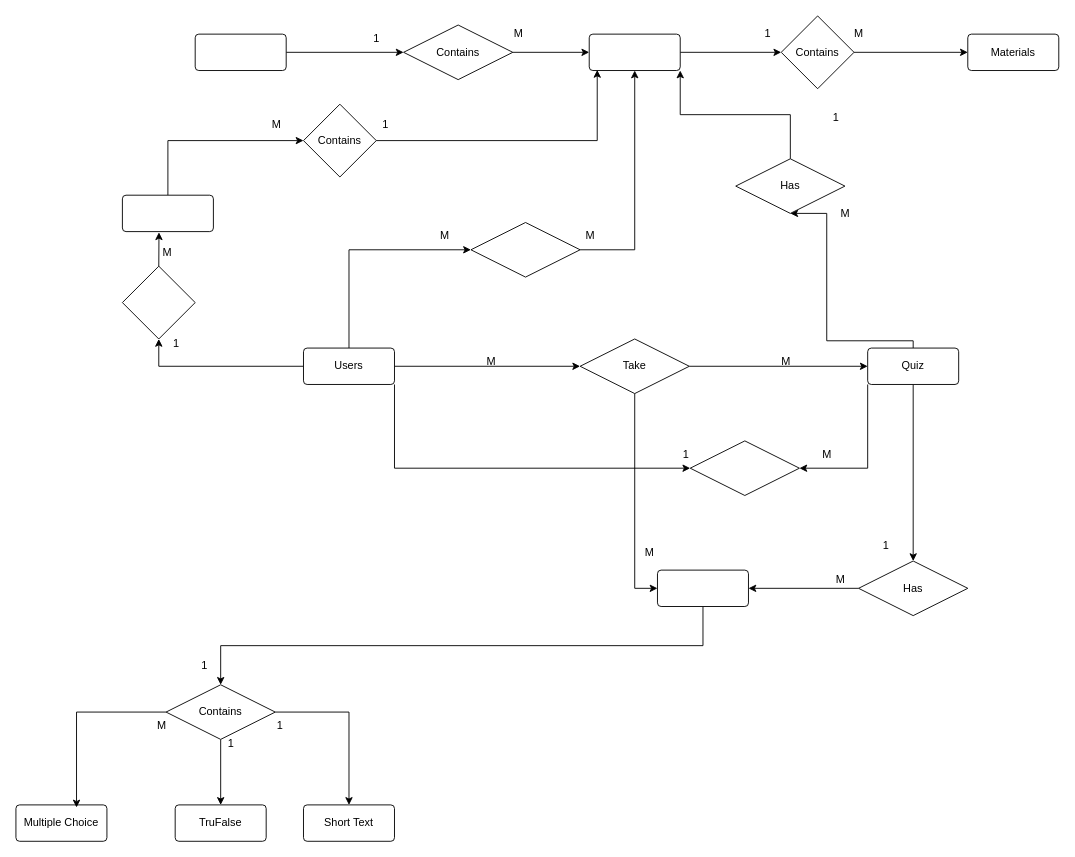
Image size: 1075x857. Some labels were removed from this diagram. Here are the shapes that lost their labels. From the top down, the centre of each, then its label:
At [240,52]: "Subject".
At [634,52]: "Section".
At [167,213]: "Message/Chat".
At [525,249]: "Enroll".
At [158,302]: "Send".
At [744,467]: "Create".
At [702,588]: "Question".
